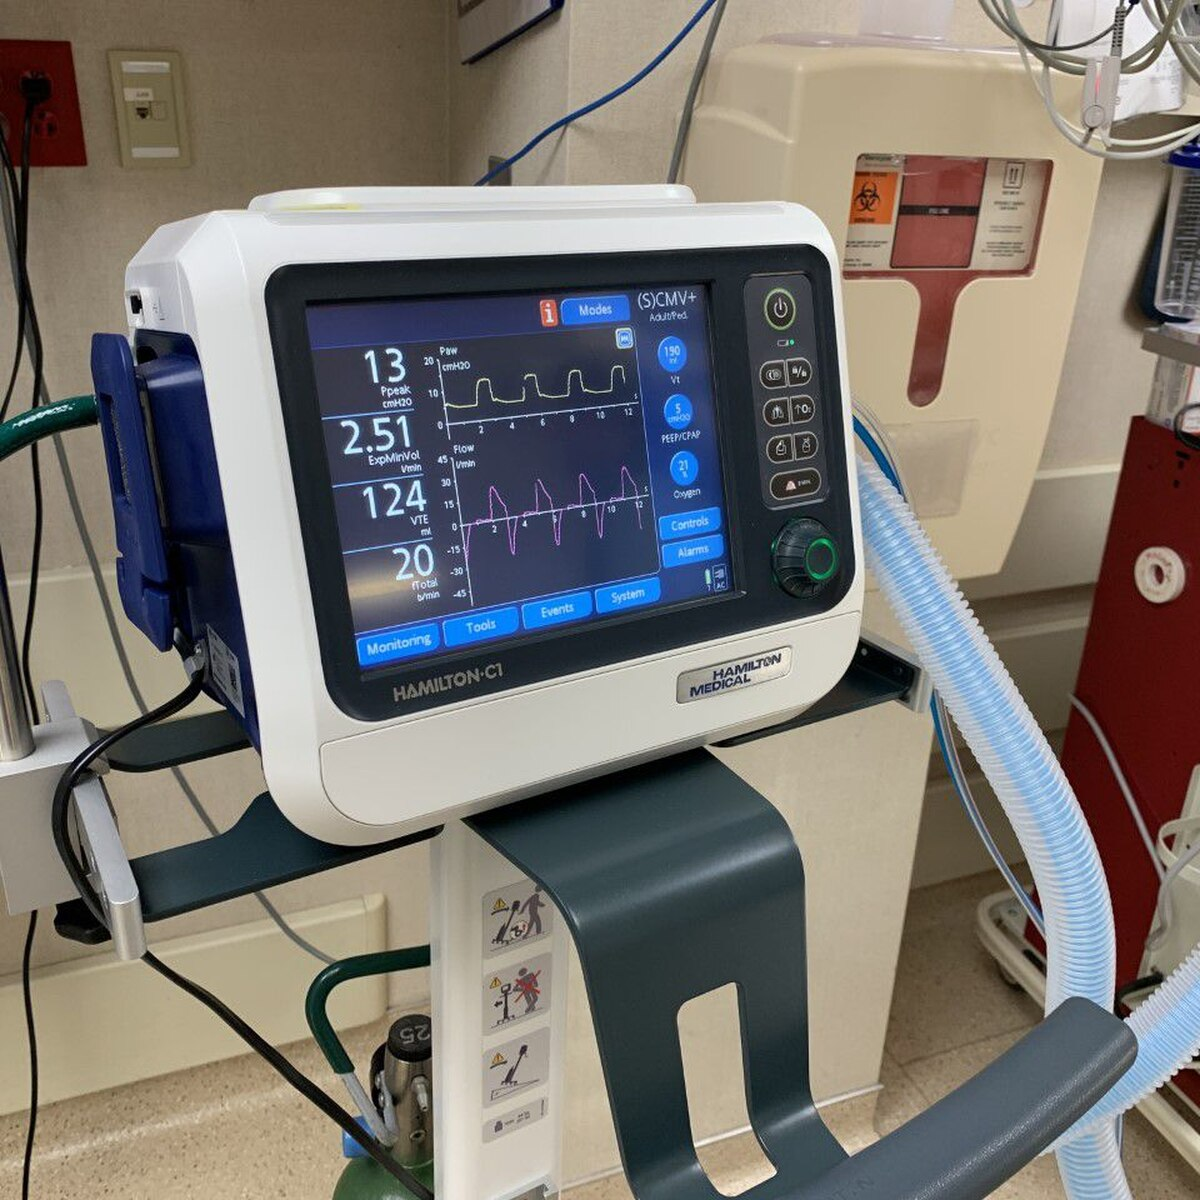bedside_monitor: (89, 182, 866, 851)
breathing_tube: (863, 460, 1200, 1200)
medical_waste_container: (716, 33, 1097, 588)
